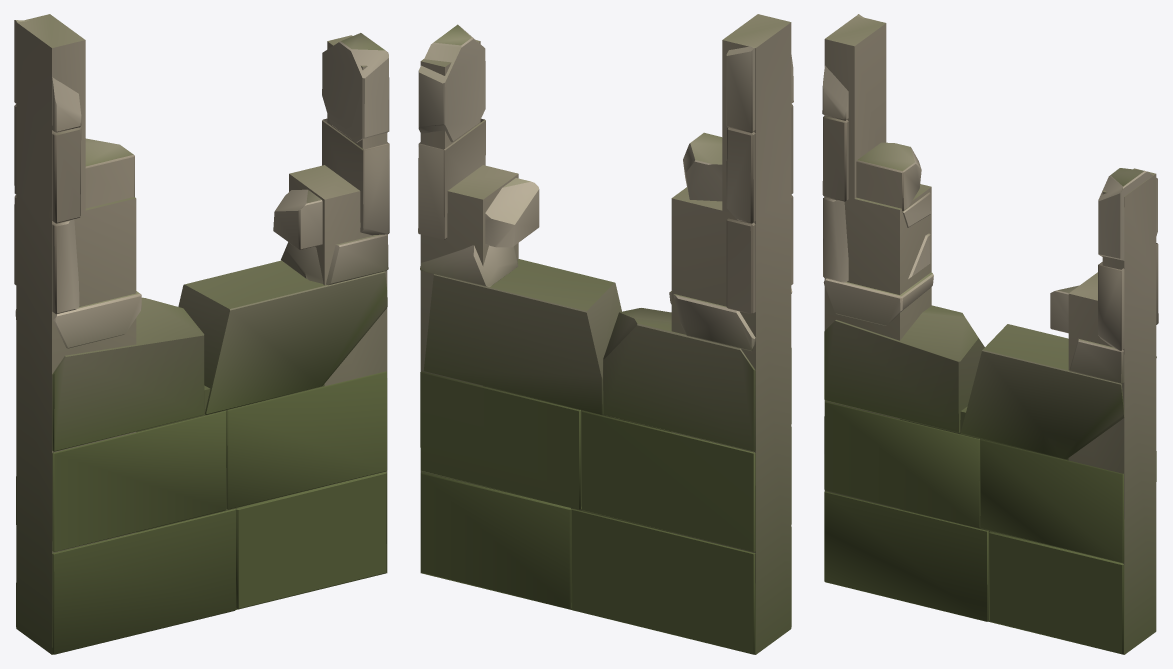
File: sanctuary_wall_burst.glb
3 renders of one model, left to right at view 1: azimuth 30°, elevation 25°; view 2: azimuth 150°, elevation 25°; view 3: azimuth 330°, elevation 25°, orthographic. The views are drawn at different scales.
Visible parts, largest first — view 1: sanctuary_wall_burst, sanctuary_wall_burst_far; view 2: sanctuary_wall_burst, sanctuary_wall_burst_far; view 3: sanctuary_wall_burst, sanctuary_wall_burst_far.
Boxes of the visible parts, bbox=[...] form: sanctuary_wall_burst: bbox=[14, 20, 389, 654]; sanctuary_wall_burst_far: bbox=[16, 14, 387, 654]; sanctuary_wall_burst: bbox=[418, 24, 793, 654]; sanctuary_wall_burst_far: bbox=[420, 14, 791, 654]; sanctuary_wall_burst: bbox=[822, 14, 1158, 654]; sanctuary_wall_burst_far: bbox=[824, 16, 1156, 654].
Bounding box in the file's own units: 18.5 × 32.05 × 4.02.
